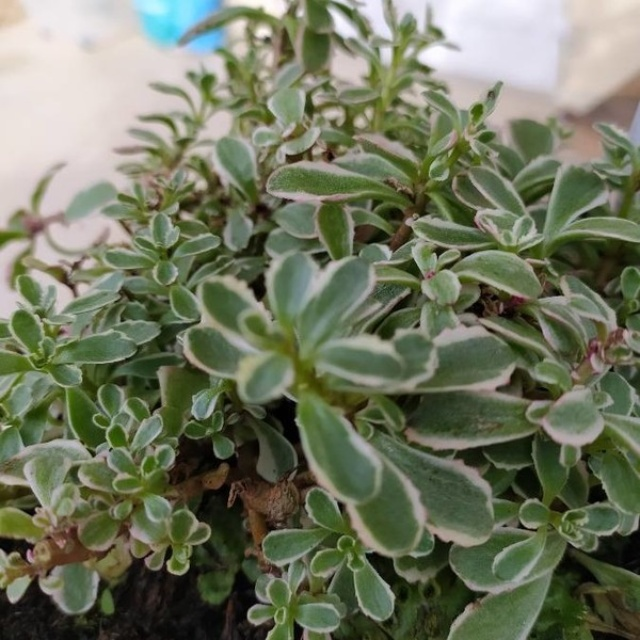obstacle: (46, 19, 588, 606)
